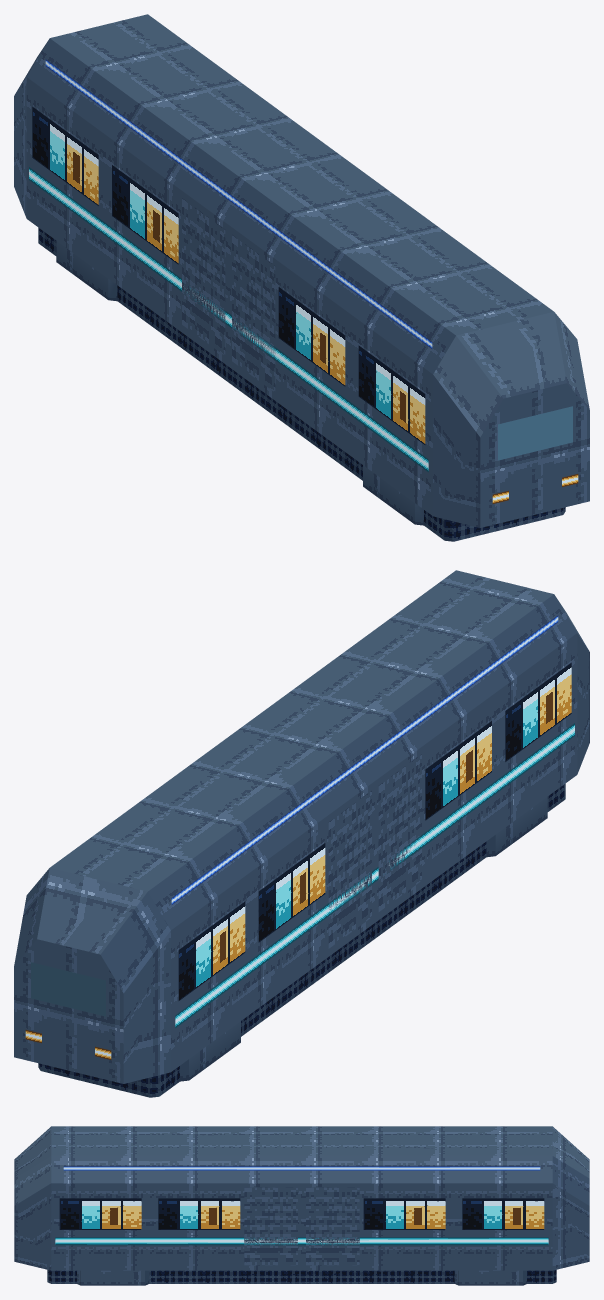
The model's file is cyroom.train__carriage.glb.
3 views of the same model, one above another, from view 1: azimuth 30°, elevation 25°; view 2: azimuth 150°, elevation 25°; view 3: azimuth 270°, elevation 25° (orthographic). The views are drawn at different scales.
Parts seen in each view (by area): view 1: kit_body, kit_card_details; view 2: kit_body, kit_card_details; view 3: kit_body, kit_card_details.
Part boxes in pixels (box(x1,y1,x2,y2)): kit_body: box(14, 14, 589, 541); kit_card_details: box(29, 59, 578, 503); kit_body: box(14, 570, 589, 1097); kit_card_details: box(25, 615, 574, 1059); kit_body: box(14, 1126, 589, 1285); kit_card_details: box(55, 1166, 548, 1265).
Size of the model in its own units: 2.54 by 3.35 by 14.02.
7 materials, 6 textured.
